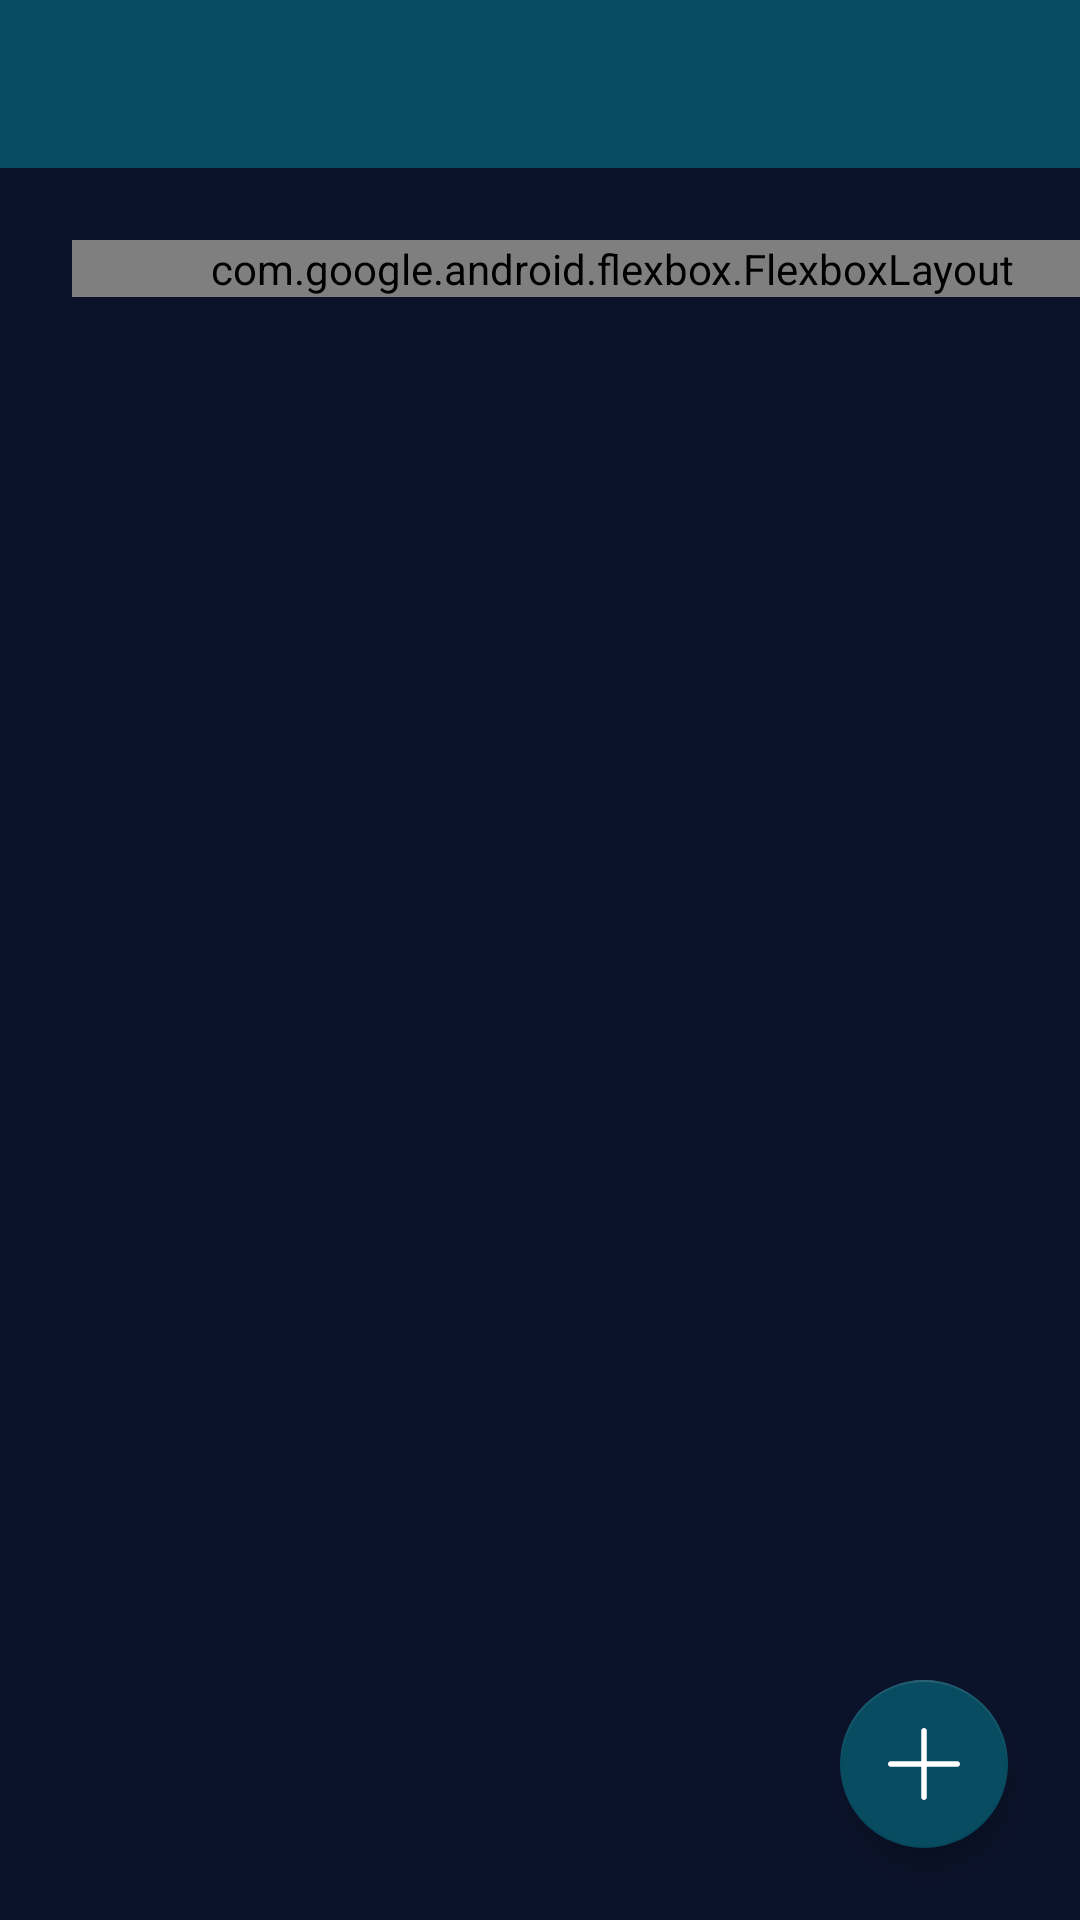

Icons on this 1080 × 1920 Android screen, each with its box as [x1,y1,x2,y2]:
plus: [840,1680,1008,1848]
